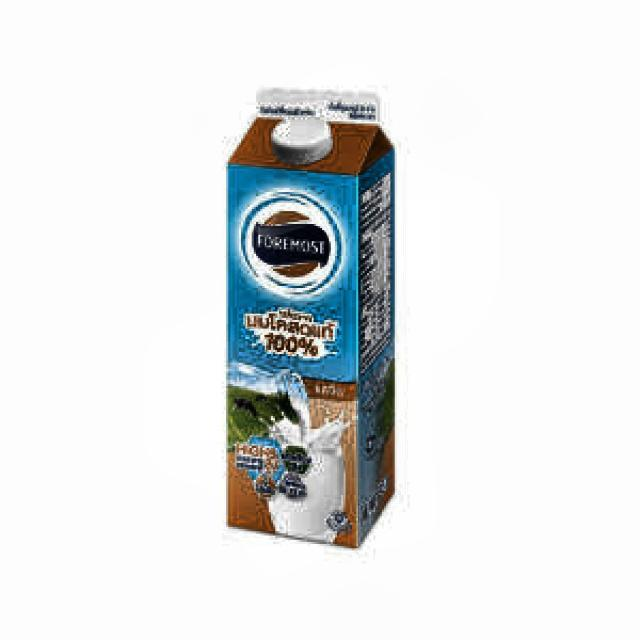cardboard: (224, 94, 397, 548)
